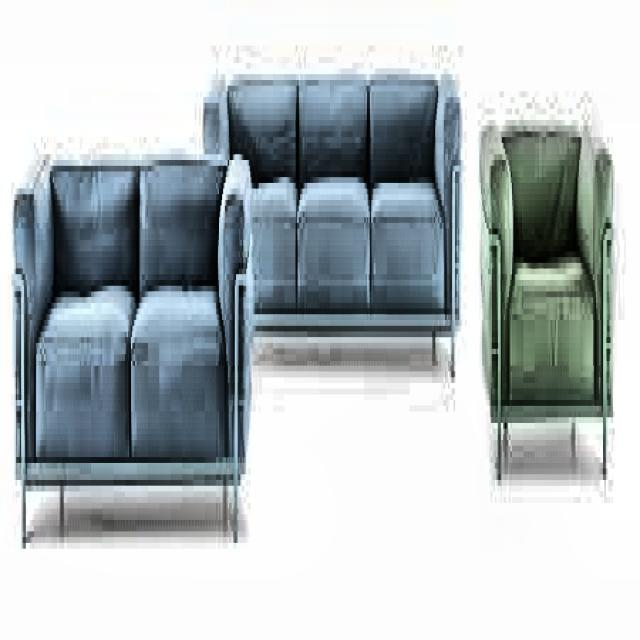sofa: (12, 154, 255, 543), (484, 91, 622, 526)
